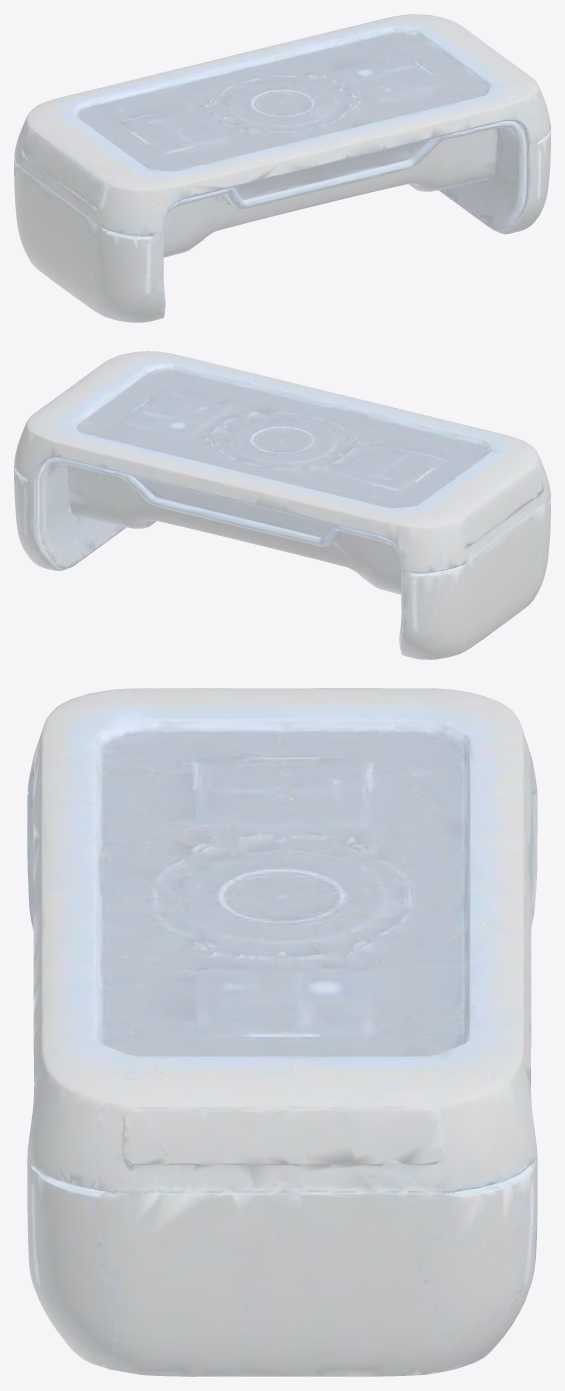
File: table-lumen.glb
3 renders of one model, top to bottom at view 1: azimuth 30°, elevation 25°; view 2: azimuth 150°, elevation 25°; view 3: azimuth 270°, elevation 25°, orthographic. The views are drawn at different scales.
Size of the model in its own units: 1.9 by 0.577 by 0.9348.
Materials: 1 (1 with a texture image).
